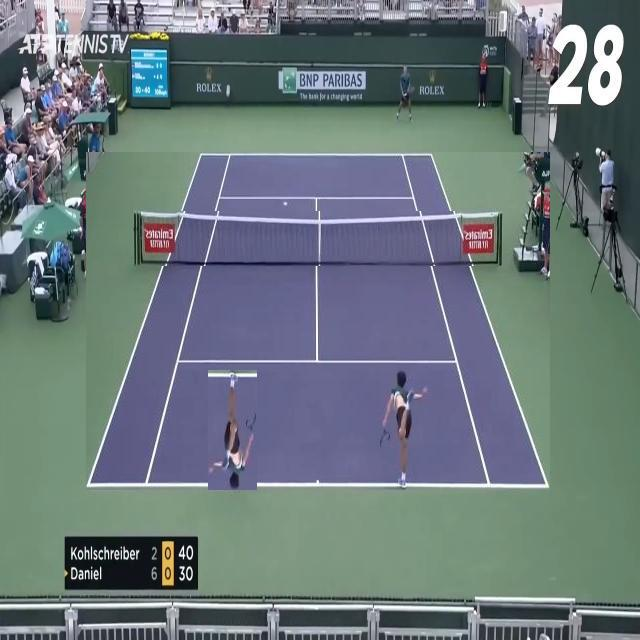court: (86, 152, 550, 490)
net: (136, 211, 503, 266)
player: (208, 370, 257, 490)
